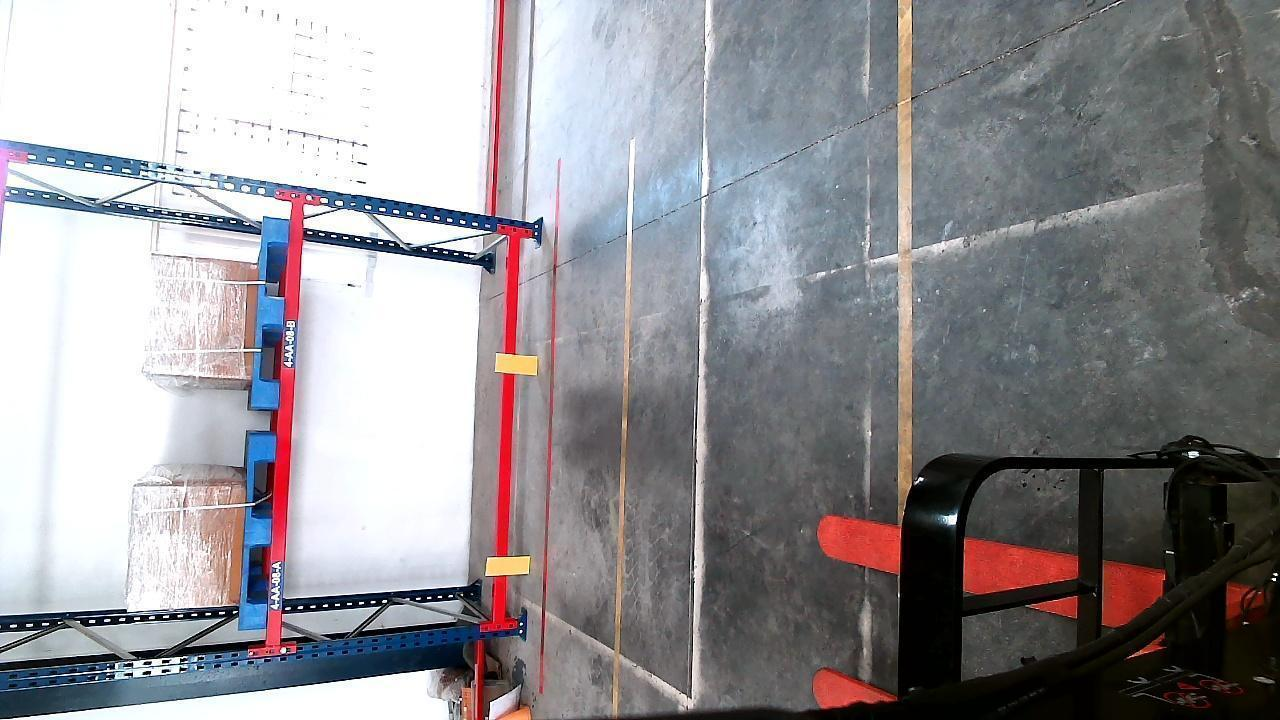red_line: (536, 156, 564, 688)
yellow_line: (606, 136, 639, 720), (893, 3, 915, 493)
